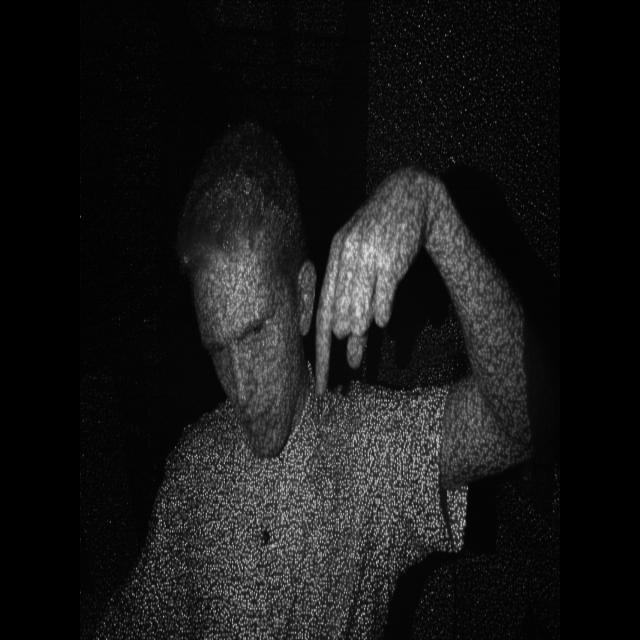Q: (304, 216, 409, 403)
